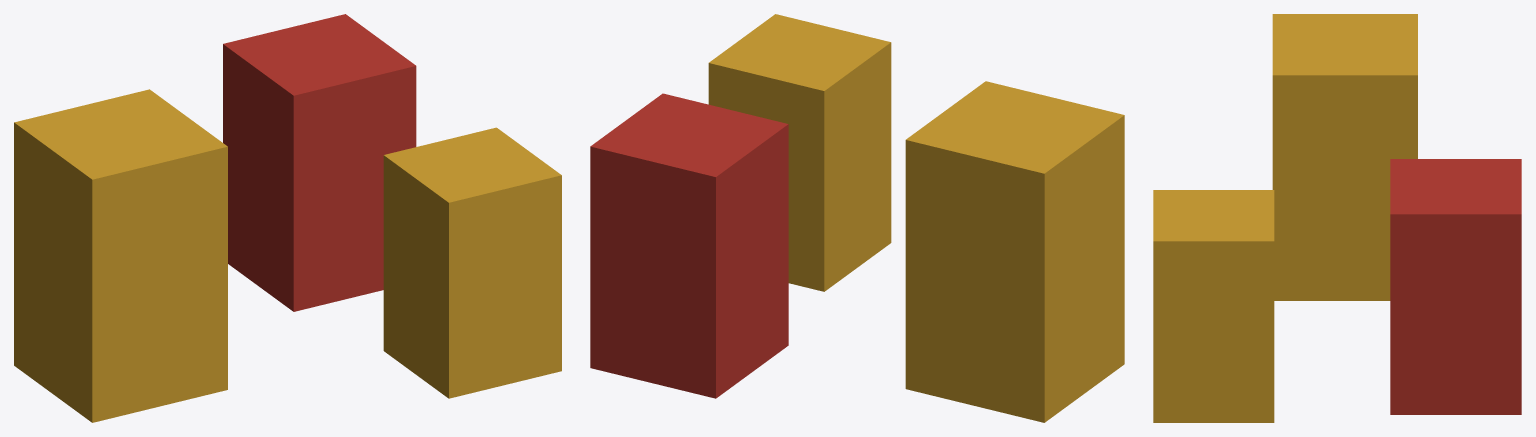
File: prop.cone_cluster.glb
3 renders of one model, left to right at view 1: azimuth 30°, elevation 25°; view 2: azimuth 150°, elevation 25°; view 3: azimuth 270°, elevation 25°, orthographic. The views are drawn at different scales.
Parts seen in each view (by area): view 1: cone_a, cone_b, cone_c; view 2: cone_a, cone_b, cone_c; view 3: cone_a, cone_b, cone_c.
Boxes of the visible parts, x1,y1,x2,y2 form: cone_a: [14, 89, 227, 422]; cone_b: [223, 14, 416, 311]; cone_c: [383, 127, 561, 398]; cone_a: [905, 81, 1124, 422]; cone_b: [590, 93, 788, 398]; cone_c: [708, 14, 891, 291]; cone_a: [1272, 14, 1417, 300]; cone_b: [1390, 159, 1521, 414]; cone_c: [1153, 190, 1274, 422].
Size of the model in its own units: 1.25 by 0.72 by 1.06.
